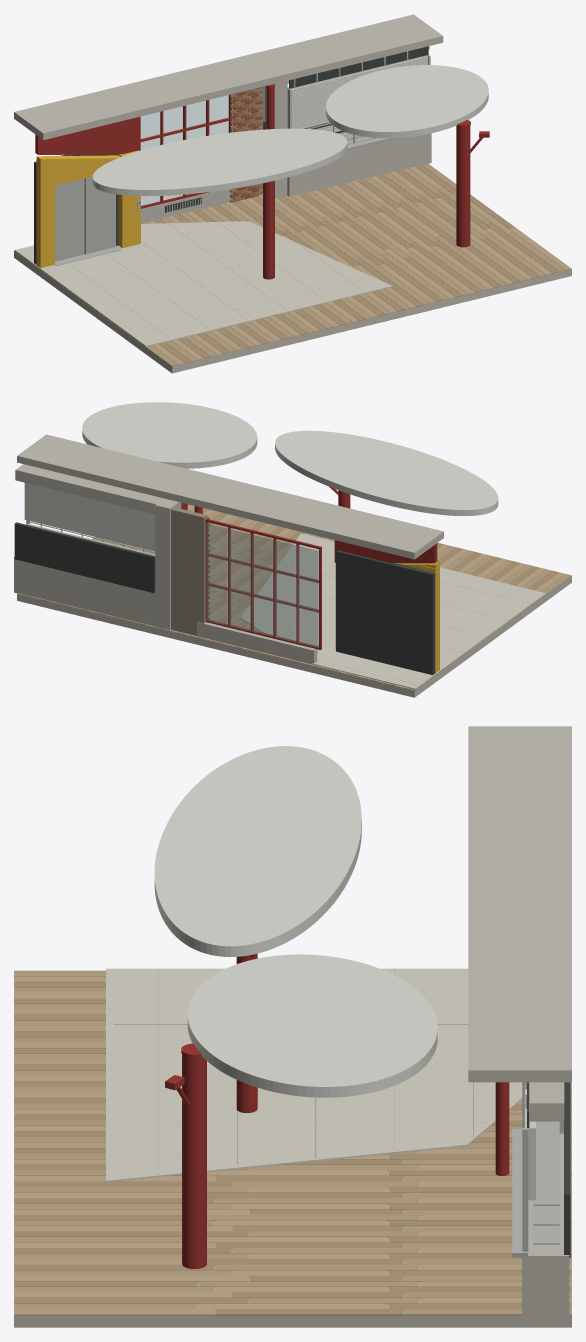
The model's file is saw-denning-interior-8cbffff024cf.glb.
3 views of the same model, one above another, from view 1: azimuth 30°, elevation 25°; view 2: azimuth 150°, elevation 25°; view 3: azimuth 270°, elevation 25° (orthographic). The views are drawn at different scales.
Parts seen in each view (by area): view 1: saw-denning; view 2: saw-denning; view 3: saw-denning.
Part boxes in pixels (bbox=[...]): saw-denning: bbox=[14, 14, 571, 373]; saw-denning: bbox=[14, 402, 571, 697]; saw-denning: bbox=[14, 726, 571, 1327].
Size of the model in its own units: 12.54 by 4.32 by 8.5.
